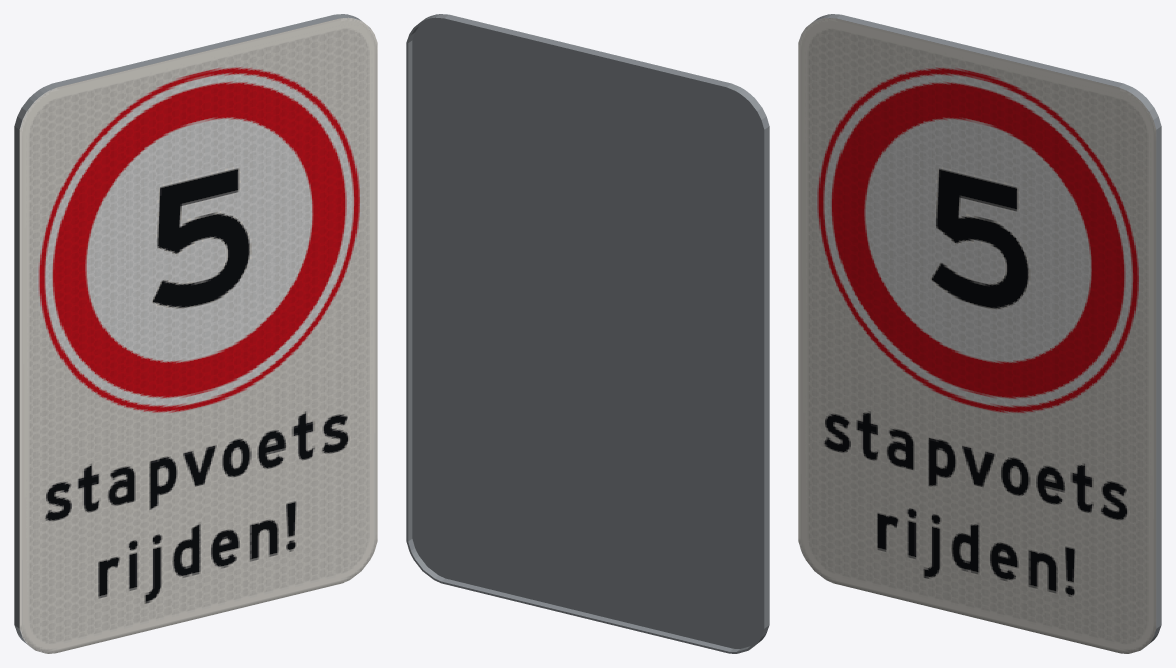
The picture shows the model from 3 angles, left to right: view 1: azimuth 30°, elevation 25°; view 2: azimuth 150°, elevation 25°; view 3: azimuth 330°, elevation 25°; orthographic projection.
Visible parts, largest first — view 1: cat_a3b1bd1771fa265d; view 2: cat_a3b1bd1771fa265d; view 3: cat_a3b1bd1771fa265d.
Part boxes in pixels (box(x1,y1,x2,y2)): cat_a3b1bd1771fa265d: box(14, 14, 377, 653); cat_a3b1bd1771fa265d: box(406, 14, 769, 653); cat_a3b1bd1771fa265d: box(798, 14, 1161, 653).
Size of the model in its own units: 0.6 by 0.015 by 0.9061.
2 materials, 1 textured.
